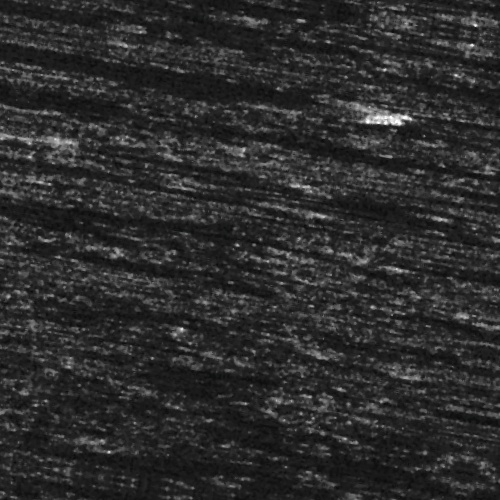object: (274, 79, 389, 104), (312, 229, 405, 242), (230, 170, 303, 179), (263, 200, 346, 207), (403, 343, 456, 348), (202, 356, 255, 361), (235, 477, 276, 482)
shadow: (66, 79, 331, 104), (71, 229, 358, 242), (78, 170, 266, 179), (322, 22, 500, 31), (116, 200, 304, 207), (320, 187, 500, 194), (54, 477, 255, 482), (129, 356, 229, 361), (335, 343, 429, 348)
